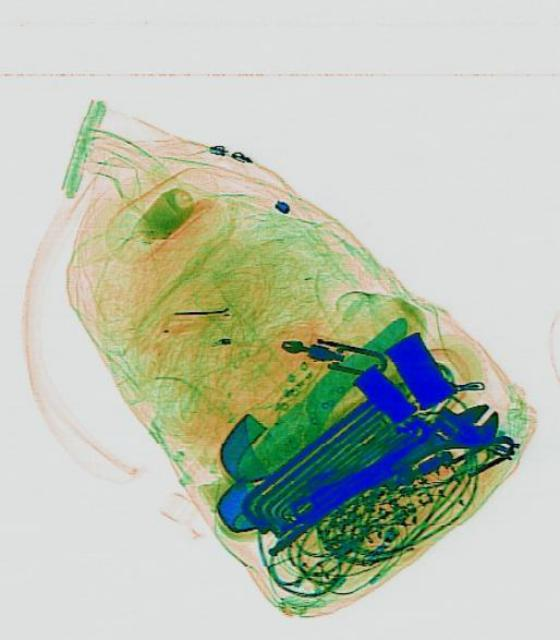Wrench: (279, 382, 507, 538)
